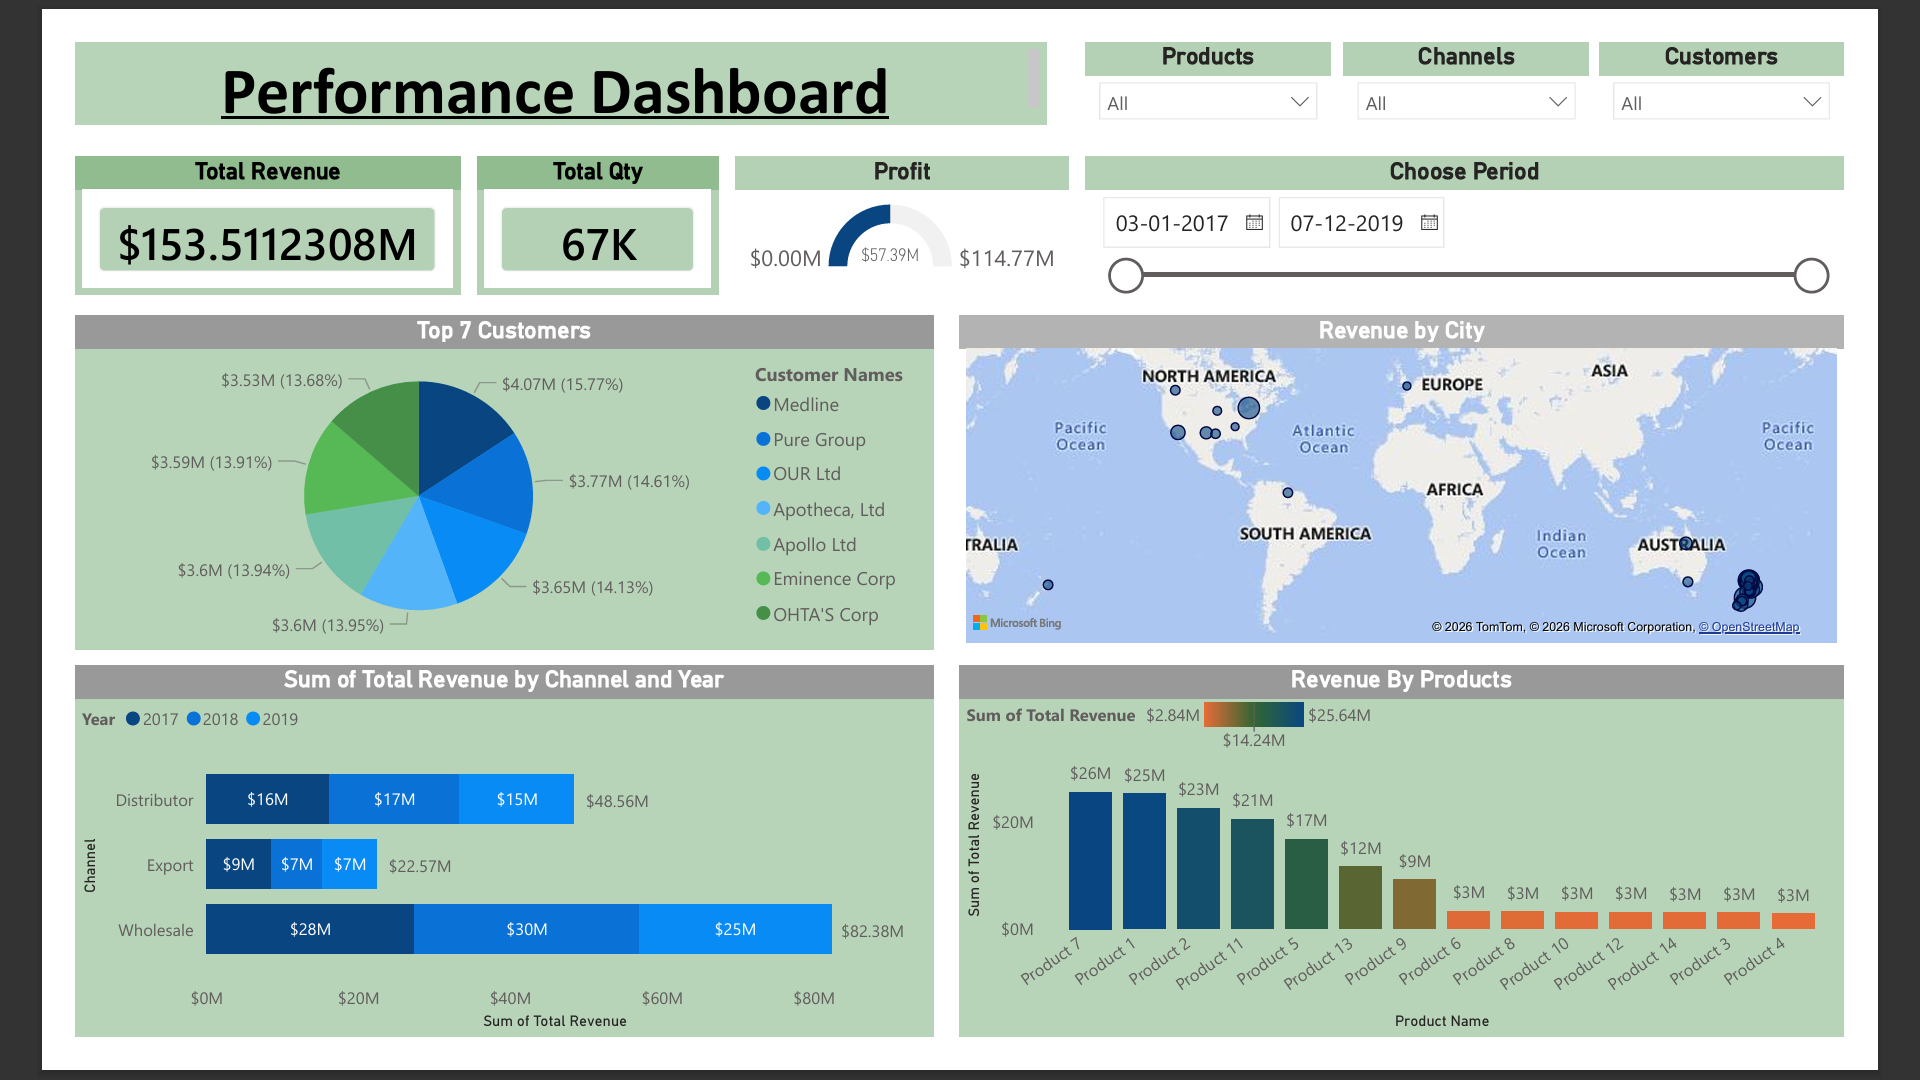

The dashboard page shown, as its layout file describes it:
{"tool":"powerbi","page":{"name":"Page 1","canvas":[1280,720],"ordinal":0},"visuals":[{"type":"barChart","fields":{"Category":["Sales_Data.Channel"],"Y":["Sum(Sales_Data.Total Revenue)"],"Series":["Sales_Data.OrderDate.Variation.Date Hierarchy.Year"]},"box":[0,451.2,621.2,269],"z":0},{"type":"columnChart","title":"Revenue By Products","fields":{"Category":["Products_Data.Product Name","Sales_Data.OrderDate.Variation.Date Hierarchy.Year"],"Y":["Sum(Sales_Data.Total Revenue)"]},"box":[639.5,451.2,640.8,269],"z":1000},{"type":"pieChart","title":"Top 7 Customers","fields":{"Category":["Customer_Data.Customer Names"],"Y":["Sum(Sales_Data.Total Revenue)"]},"box":[0,198.1,621.2,242.1],"z":2000},{"type":"map","title":"Revenue by City","fields":{"Category":["Regions_Table.City"],"Size":["Sum(Sales_Data.Total Revenue)"]},"box":[639.5,198.1,640.8,242.1],"z":3000},{"type":"cardVisual","title":"Total Revenue","fields":{"Data":["Sum(Sales_Data.Total Revenue)"]},"box":[0,83.2,278.8,100.3],"z":4000},{"type":"cardVisual","title":"Total Qty","fields":{"Data":["Sum(Sales_Data.Order Quantity)"]},"box":[291,83.2,174.9,100.3],"z":5000},{"type":"gauge","title":"Profit","fields":{"Y":["Sum(Sales_Data.Profit)"]},"box":[478.1,83.2,240.9,100.3],"z":6000},{"type":"slicer","title":"Choose Period","fields":{"Values":["Sales_Data.OrderDate"]},"box":[731.3,83.2,549.1,100.3],"z":7000},{"type":"slicer","title":"Customers","fields":{"Values":["Customer_Data.Customer Names"]},"box":[1103,0,177.3,59.9],"z":8000},{"type":"slicer","title":"Channels","fields":{"Values":["Sales_Data.Channel"]},"box":[918.3,0,177.3,59.9],"z":9000},{"type":"slicer","title":"Products","fields":{"Values":["Products_Data.Product Name"]},"box":[731.3,0,177.3,59.9],"z":10000},{"type":"textbox","box":[0,0,703.1,59.9],"z":11000}]}

Visuals, with their boxes in screenshot pixels (x1, y1, x2, y2), scaled from the page's 1280x720 canvas onto the 1920x1080 screenshot:
barChart - Sales_Data.Channel x Sum(Sales_Data.Total Revenue): {"left": 0, "top": 677, "right": 932, "bottom": 1079}
"Revenue By Products" columnChart: {"left": 959, "top": 677, "right": 1919, "bottom": 1079}
"Top 7 Customers" pieChart: {"left": 0, "top": 297, "right": 932, "bottom": 660}
"Revenue by City" map: {"left": 959, "top": 297, "right": 1919, "bottom": 660}
"Total Revenue" cardVisual: {"left": 0, "top": 125, "right": 418, "bottom": 275}
"Total Qty" cardVisual: {"left": 436, "top": 125, "right": 699, "bottom": 275}
"Profit" gauge: {"left": 717, "top": 125, "right": 1078, "bottom": 275}
"Choose Period" slicer: {"left": 1097, "top": 125, "right": 1919, "bottom": 275}
"Customers" slicer: {"left": 1654, "top": 0, "right": 1919, "bottom": 90}
"Channels" slicer: {"left": 1377, "top": 0, "right": 1643, "bottom": 90}
"Products" slicer: {"left": 1097, "top": 0, "right": 1363, "bottom": 90}
textbox: {"left": 0, "top": 0, "right": 1055, "bottom": 90}
